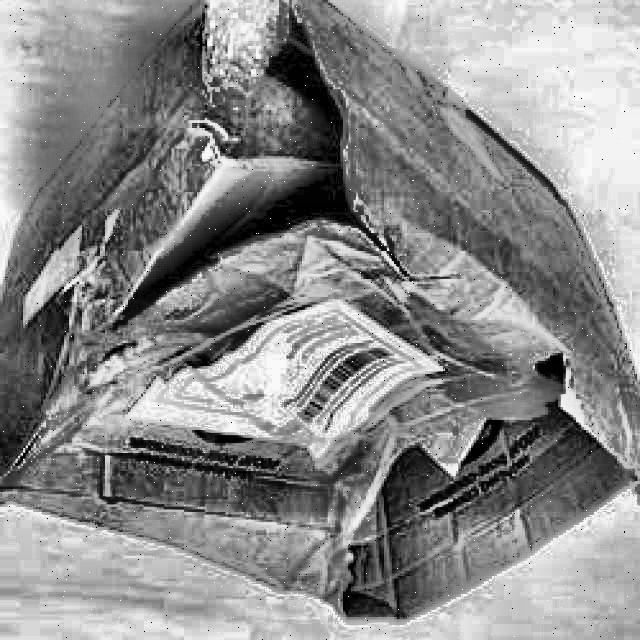box: (0, 1, 639, 640)
hole: (130, 0, 415, 323), (340, 355, 626, 611)
